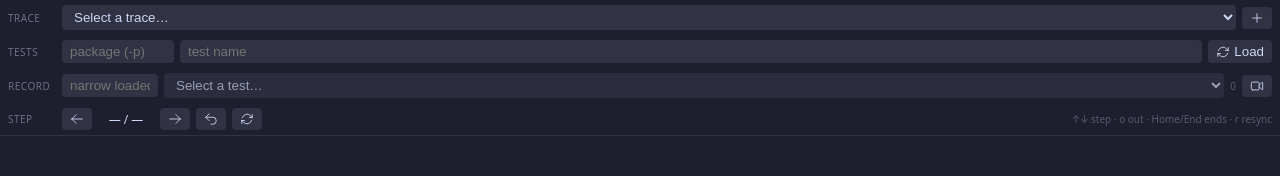
Test: DebugWalkthroughTile › recording from the UI › shows progress while recording so the UI never looks frozen
This screenshot has width=1280, height=176.
Click the button with aria-label "Load tests" at [1240, 52], box [1208, 40, 1272, 63]
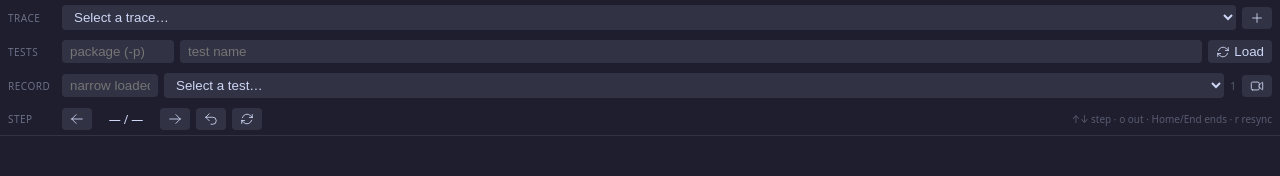
Select "b" in the dropdown named "Test" at [694, 86], box [164, 73, 1224, 98]
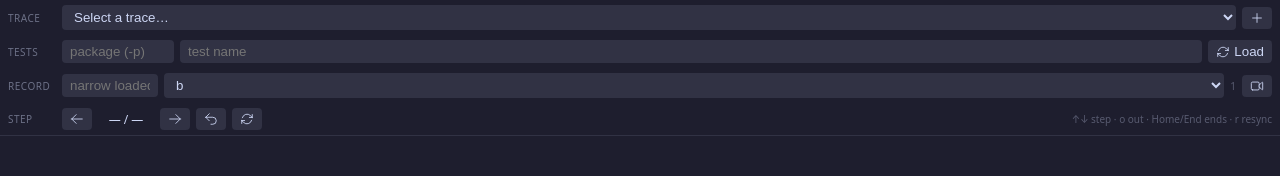
Click the button named "Record trace" at [1257, 86], box [1242, 74, 1272, 96]
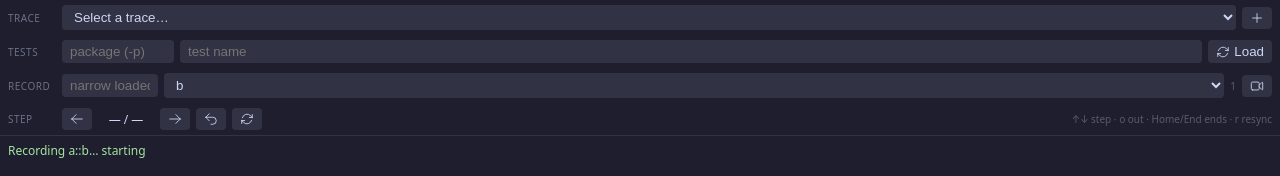
Check: the text "Recording a::b… starting" is shown, box [8, 142, 146, 159]
